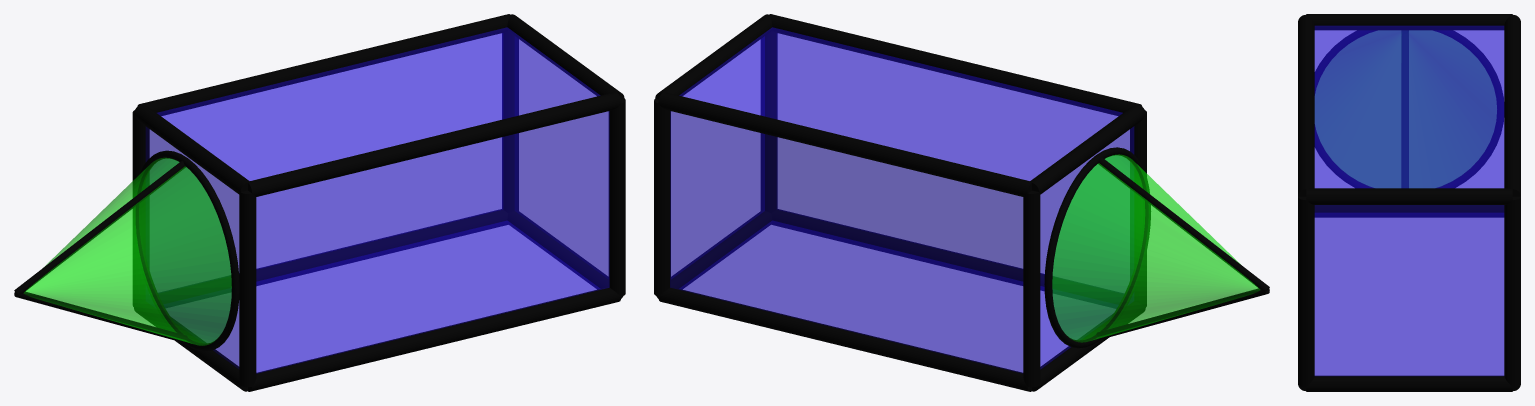
The model's file is cone on rectangular prism.fbx.
The picture shows the model from 3 angles, left to right: view 1: azimuth 30°, elevation 25°; view 2: azimuth 150°, elevation 25°; view 3: azimuth 270°, elevation 25°; orthographic projection. The views are drawn at different scales.
Parts seen in each view (by area): view 1: ReferenceCuboid, ReferenceCone, CuboidEdge.002, CuboidEdge.006, CuboidEdge, CuboidEdge.004, BaseRing, CuboidEdge.010, CuboidEdge.011, CuboidEdge.008, CuboidEdge.001, CuboidEdge.003 (+5 smaller); view 2: ReferenceCuboid, ReferenceCone, CuboidEdge, CuboidEdge.004, CuboidEdge.002, CuboidEdge.006, BaseRing, CuboidEdge.009, CuboidEdge.008, CuboidEdge.011, CuboidEdge.001, CuboidEdge.003 (+5 smaller); view 3: ReferenceCuboid, ReferenceCone, CuboidEdge.003, CuboidEdge.007, CuboidEdge.001, CuboidEdge.008, CuboidEdge.011, CuboidEdge, CuboidEdge.002, BaseRing, CuboidEdge.005, SideLine_180.
Part boxes in pixels (left/top/right/bottom): ReferenceCuboid: left=146, top=27, right=609, bottom=373; ReferenceCone: left=24, top=158, right=231, bottom=345; CuboidEdge.002: left=248, top=92, right=621, bottom=196; CuboidEdge.006: left=248, top=287, right=621, bottom=391; CuboidEdge: left=137, top=14, right=510, bottom=115; CuboidEdge.004: left=150, top=209, right=507, bottom=303; BaseRing: left=133, top=150, right=239, bottom=351; CuboidEdge.010: left=239, top=190, right=256, bottom=387; CuboidEdge.011: left=608, top=98, right=625, bottom=296; CuboidEdge.008: left=502, top=31, right=518, bottom=213; CuboidEdge.001: left=134, top=104, right=249, bottom=194; CuboidEdge.003: left=507, top=14, right=624, bottom=99; ReferenceCuboid: left=670, top=27, right=1133, bottom=373; ReferenceCone: left=1052, top=154, right=1259, bottom=342; CuboidEdge: left=658, top=92, right=1031, bottom=196; CuboidEdge.004: left=658, top=287, right=1031, bottom=391; CuboidEdge.002: left=769, top=14, right=1142, bottom=116; CuboidEdge.006: left=771, top=209, right=1123, bottom=304; BaseRing: left=1044, top=147, right=1150, bottom=348; CuboidEdge.009: left=1023, top=190, right=1040, bottom=387; CuboidEdge.008: left=654, top=98, right=670, bottom=296; CuboidEdge.011: left=761, top=31, right=777, bottom=213; CuboidEdge.001: left=1030, top=104, right=1145, bottom=194; CuboidEdge.003: left=655, top=14, right=772, bottom=99; ReferenceCuboid: left=1314, top=26, right=1504, bottom=375; ReferenceCone: left=1315, top=30, right=1496, bottom=187; CuboidEdge.003: left=1306, top=188, right=1512, bottom=204; CuboidEdge.007: left=1306, top=375, right=1512, bottom=391; CuboidEdge.001: left=1306, top=14, right=1512, bottom=30; CuboidEdge.008: left=1504, top=196, right=1520, bottom=387; CuboidEdge.011: left=1298, top=196, right=1314, bottom=387; CuboidEdge: left=1504, top=15, right=1520, bottom=196; CuboidEdge.002: left=1298, top=15, right=1314, bottom=196; BaseRing: left=1315, top=30, right=1503, bottom=187; CuboidEdge.005: left=1314, top=205, right=1504, bottom=217; SideLine_180: left=1402, top=33, right=1408, bottom=187.
Bounding box in the file's own units: 302 × 108 × 108.
